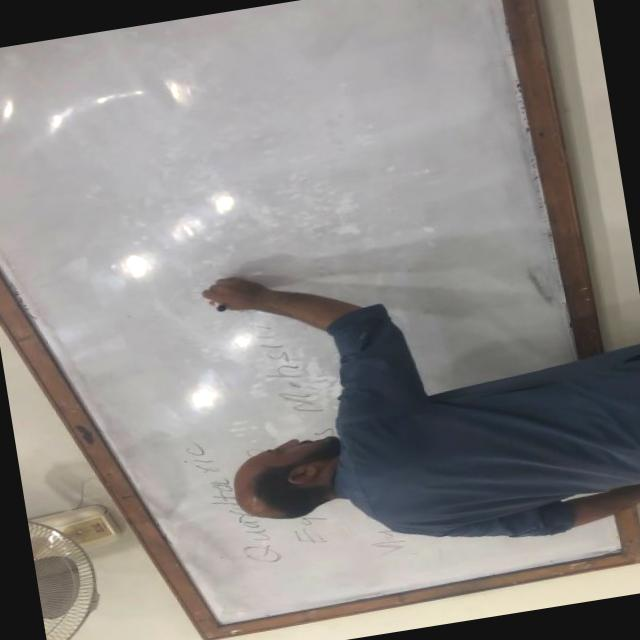Instructor: (215, 353, 640, 560)
